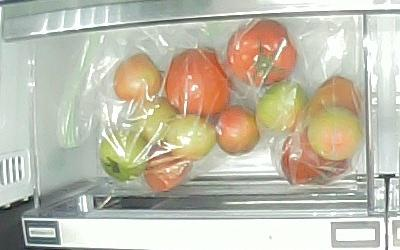tomato_vinyl: (226, 18, 296, 86), (165, 48, 231, 118), (280, 129, 350, 186), (308, 105, 362, 161), (256, 82, 307, 134), (99, 127, 149, 180), (162, 114, 218, 161), (141, 144, 194, 192), (113, 53, 164, 102), (215, 106, 262, 156), (312, 76, 362, 118), (133, 96, 178, 142)
